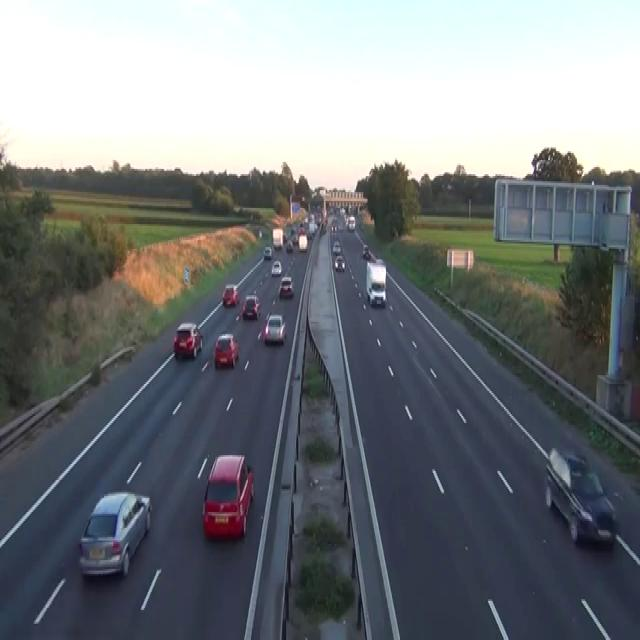Car: (544, 446, 617, 548), (78, 490, 152, 578), (202, 454, 254, 540), (173, 322, 203, 359), (214, 332, 239, 368), (264, 313, 286, 343), (242, 293, 260, 320), (368, 282, 386, 306), (222, 282, 239, 306), (278, 275, 294, 297), (334, 254, 345, 272), (271, 260, 281, 276), (263, 243, 272, 260), (332, 238, 341, 254), (347, 215, 355, 231), (290, 228, 298, 244), (376, 258, 386, 270), (319, 222, 327, 235), (362, 244, 369, 258), (285, 240, 293, 252), (298, 224, 305, 235), (331, 222, 337, 233), (282, 231, 287, 244), (258, 228, 262, 238)
Truck: (365, 258, 386, 308), (272, 227, 283, 249), (298, 231, 307, 251)
